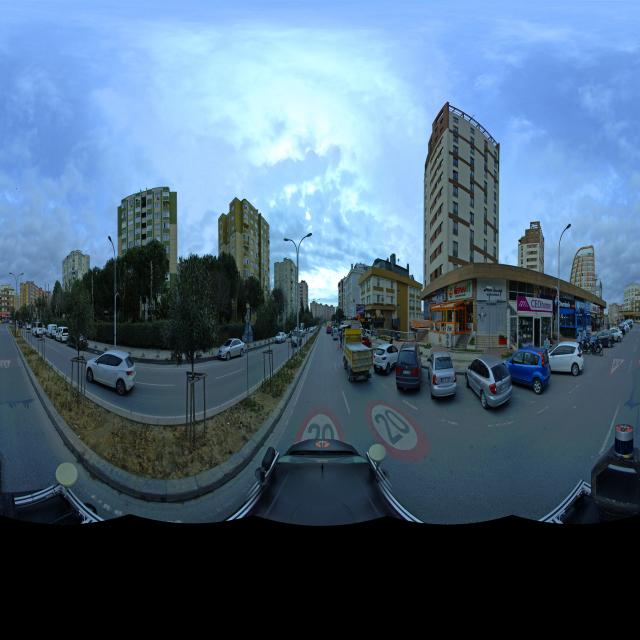SignStore: (518, 296, 553, 312), (448, 279, 472, 300), (484, 287, 504, 301), (559, 299, 575, 309), (577, 301, 591, 311), (591, 302, 600, 313), (361, 317, 372, 322), (601, 308, 603, 314), (2, 314, 7, 316)
